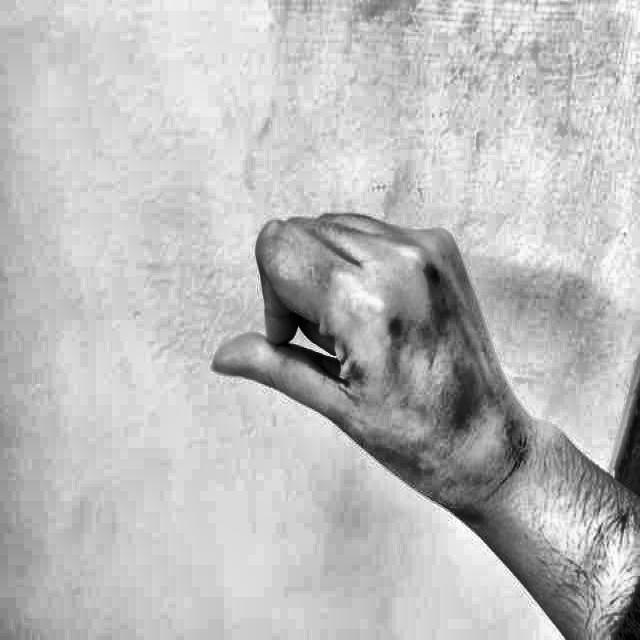Ay: (186, 168, 494, 568)
